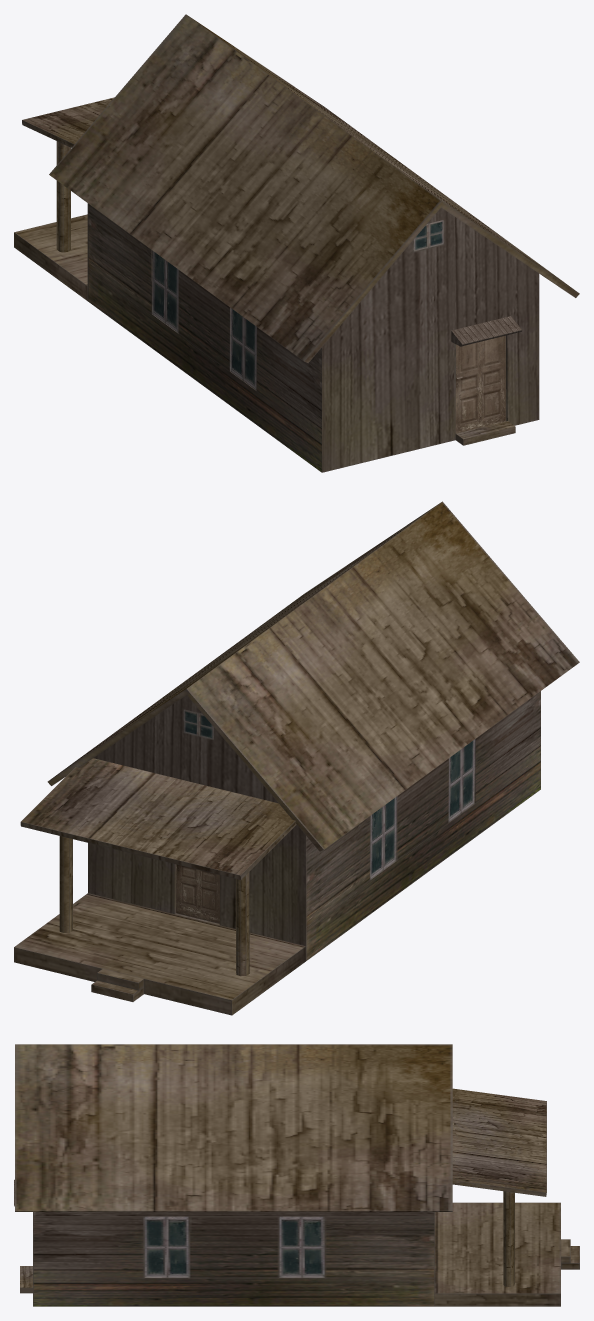
The model's file is farmhouse_obj.gltf.
3 views of the same model, one above another, from view 1: azimuth 30°, elevation 25°; view 2: azimuth 150°, elevation 25°; view 3: azimuth 270°, elevation 25° (orthographic). The views are drawn at different scales.
Visible parts, largest first — view 1: polySurface73; view 2: polySurface73; view 3: polySurface73.
Boxes of the visible parts, x1,y1,x2,y2 form: polySurface73: [14, 14, 579, 472]; polySurface73: [14, 501, 579, 1015]; polySurface73: [14, 1044, 579, 1306].
Bounding box in the file's own units: 24.28 × 21.28 × 50.36.
Materials: 1 (1 with a texture image).
